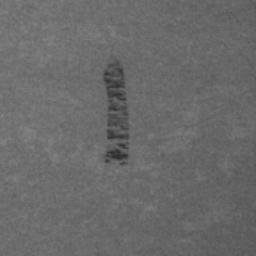Secondary rust skin: (103, 60, 131, 164)
